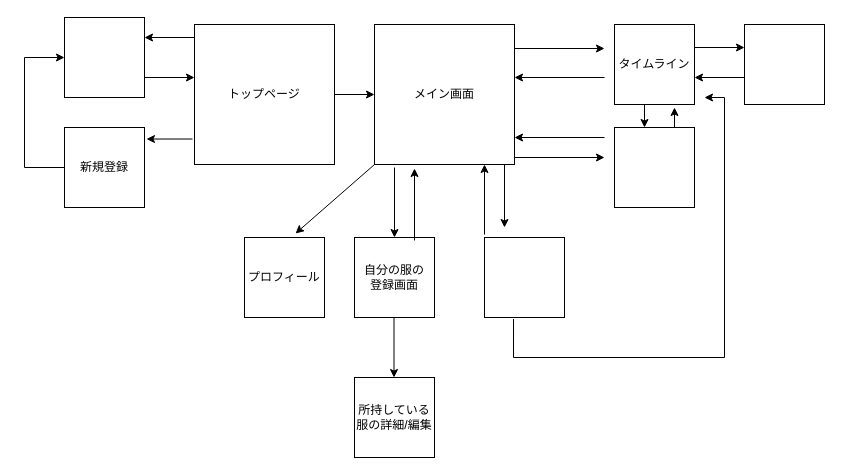
This 842x475 diagram has some shape labels left out. The centre of each missing label's shape, as x and y in pixels:
DM: the point at 654,167
いらない服の投稿画面: the point at 524,277
ログイン: the point at 104,57
他ユーザ・ 服の詳細: the point at 784,64
